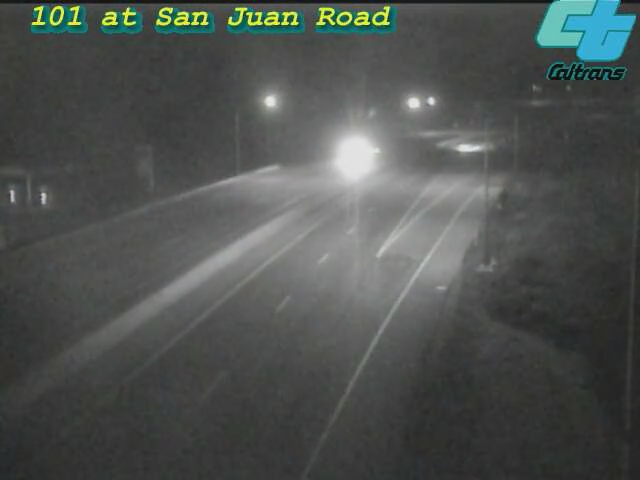vehicle: (330, 130, 380, 180), (438, 123, 488, 173)
